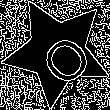O_NW: (24, 18, 90, 85)
